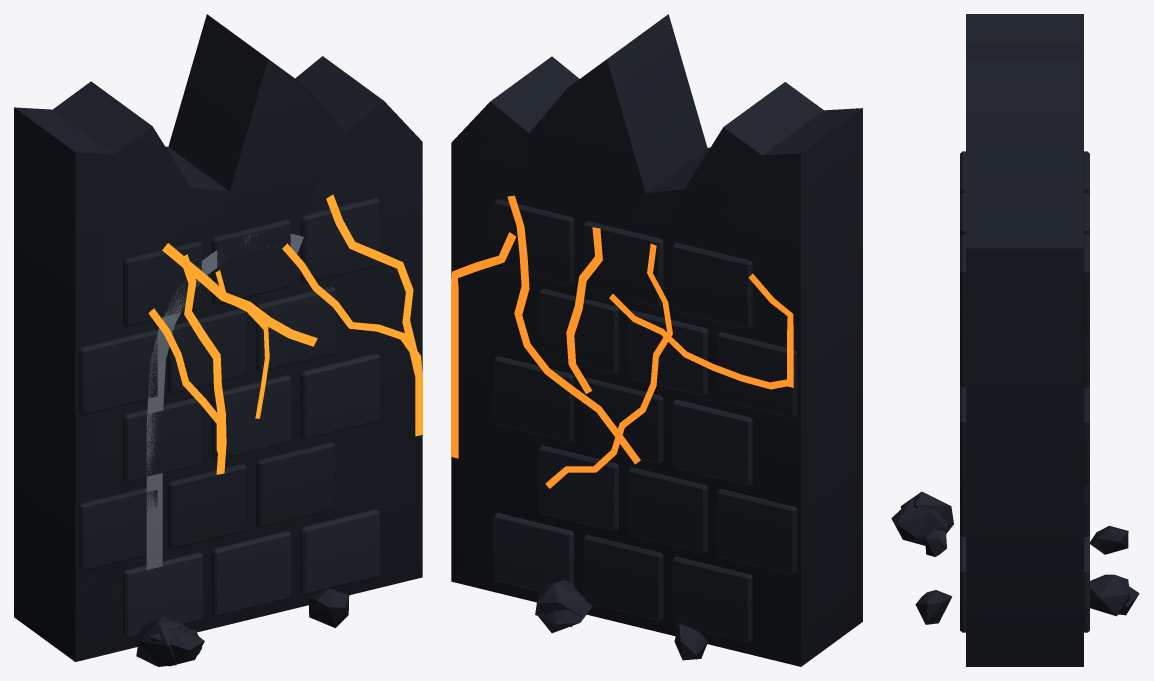
File: broken_wall.glb
3 views of the same model, side by side, from view 1: azimuth 30°, elevation 25°; view 2: azimuth 150°, elevation 25°; view 3: azimuth 270°, elevation 25° (orthographic). The views are drawn at different scales.
Parts seen in each view (by area): view 1: broken_wall_mesh; view 2: broken_wall_mesh; view 3: broken_wall_mesh.
Part boxes in pixels (x1,y1,x2,y2): broken_wall_mesh: (14, 14, 422, 666); broken_wall_mesh: (451, 14, 862, 666); broken_wall_mesh: (891, 14, 1139, 666).
Bounding box in the file's own units: 1.96 × 3.05 × 1.26.
